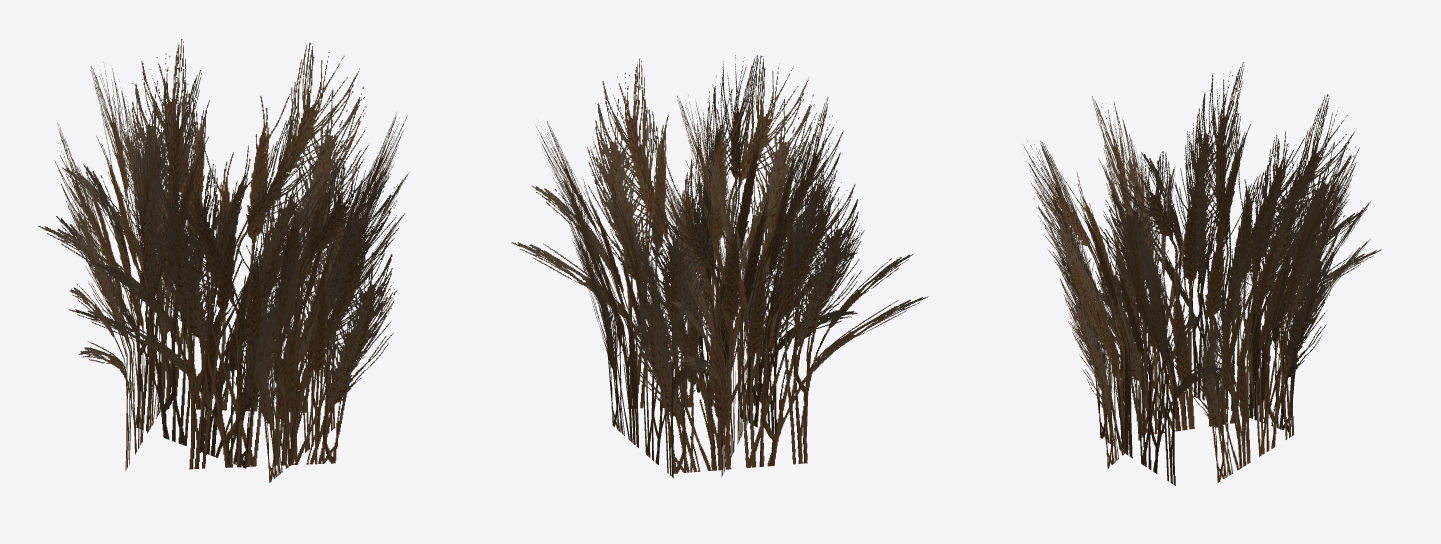
File: wheat_1.glb
3 renders of one model, left to right at view 1: azimuth 30°, elevation 25°; view 2: azimuth 150°, elevation 25°; view 3: azimuth 270°, elevation 25°, orthographic. The views are drawn at different scales.
Parts seen in each view (by area): view 1: wheat_1; view 2: wheat_1; view 3: wheat_1.
Part boxes in pixels (left/top/right/bottom): wheat_1: left=38, top=39, right=409, bottom=482; wheat_1: left=511, top=55, right=928, bottom=478; wheat_1: left=1022, top=62, right=1381, bottom=485.
Size of the model in its own units: 1.7 by 1.25 by 1.47.
Materials: 1 (1 with a texture image).
